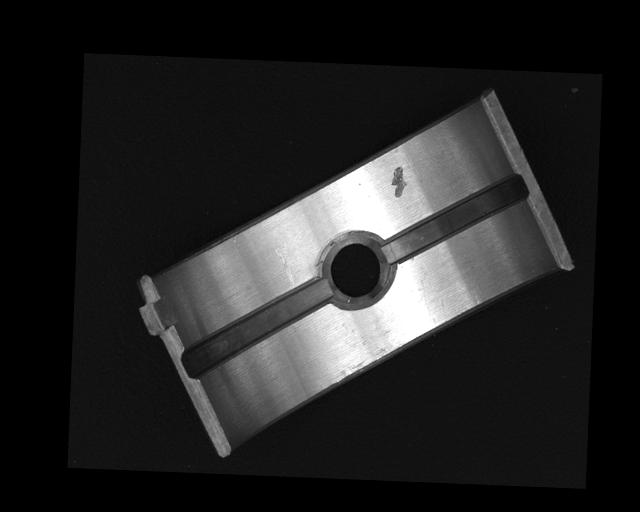bruise: (389, 164, 410, 199)
gap: (182, 271, 329, 384), (381, 167, 528, 267)
hole: (322, 230, 387, 306)
nick: (274, 241, 297, 286)
